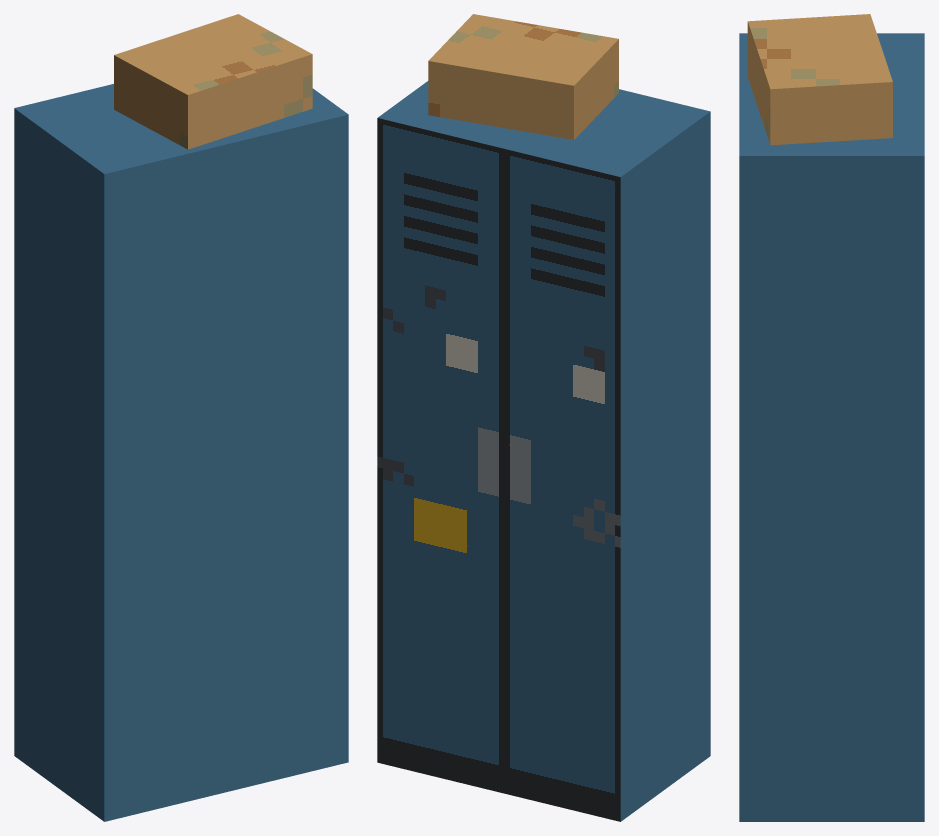
The model's file is locker.glb.
3 renders of one model, left to right at view 1: azimuth 30°, elevation 25°; view 2: azimuth 150°, elevation 25°; view 3: azimuth 270°, elevation 25°, orthographic. The views are drawn at different scales.
Visible parts, largest first — view 1: locker; view 2: locker; view 3: locker.
Part boxes in pixels (x1=…): locker: x1=14, y1=14, x2=348, y2=821; locker: x1=377, y1=14, x2=710, y2=821; locker: x1=739, y1=14, x2=924, y2=821.
Size of the model in its own units: 0.75 by 2.06 by 0.48.
Materials: 3 (3 with a texture image).
